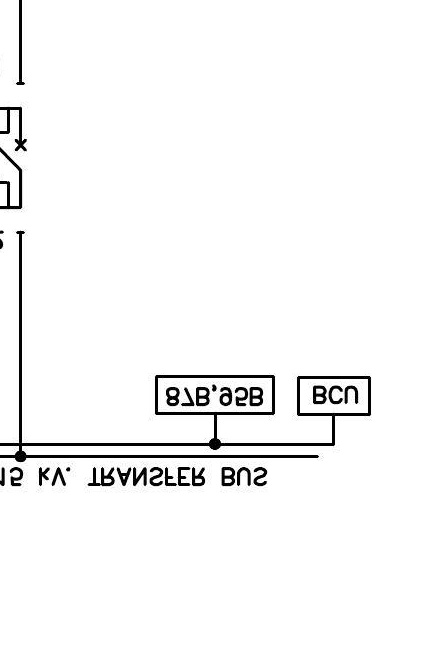BCU: (296, 375, 372, 417)
